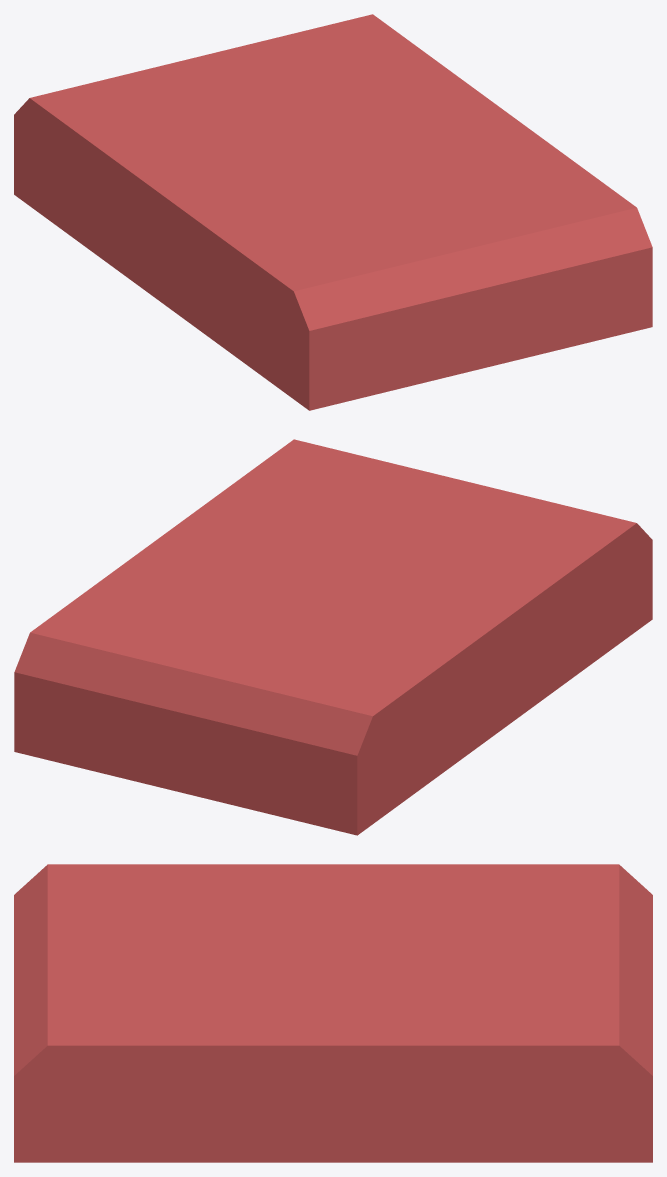
The model's file is ct_mecha_obj04s.glb.
3 renders of one model, top to bottom at view 1: azimuth 30°, elevation 25°; view 2: azimuth 150°, elevation 25°; view 3: azimuth 270°, elevation 25°, orthographic. The views are drawn at different scales.
Parts seen in each view (by area): view 1: ct_mecha_obj04s_col; view 2: ct_mecha_obj04s_col; view 3: ct_mecha_obj04s_col.
Boxes of the visible parts, x1=… form: ct_mecha_obj04s_col: x1=14, y1=14, x2=652, y2=410; ct_mecha_obj04s_col: x1=14, y1=439, x2=652, y2=835; ct_mecha_obj04s_col: x1=14, y1=864, x2=652, y2=1162.
Bounding box in the file's own units: 4.51 × 1.35 × 6.71.
